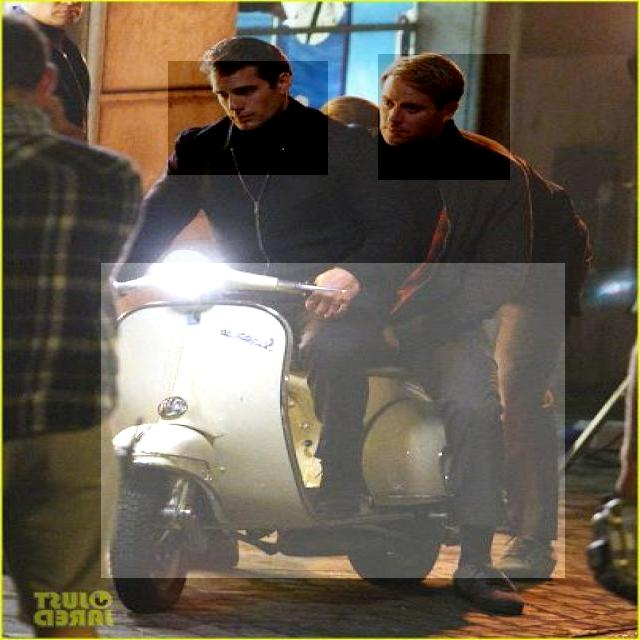Bike: (102, 263, 566, 578)
No_Helmet: (168, 61, 328, 175), (378, 54, 510, 180)
